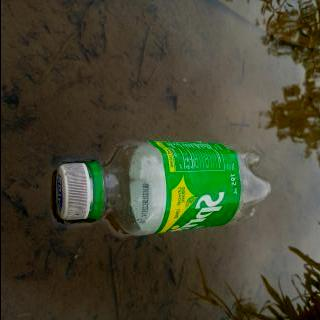bottle: (54, 138, 272, 235)
